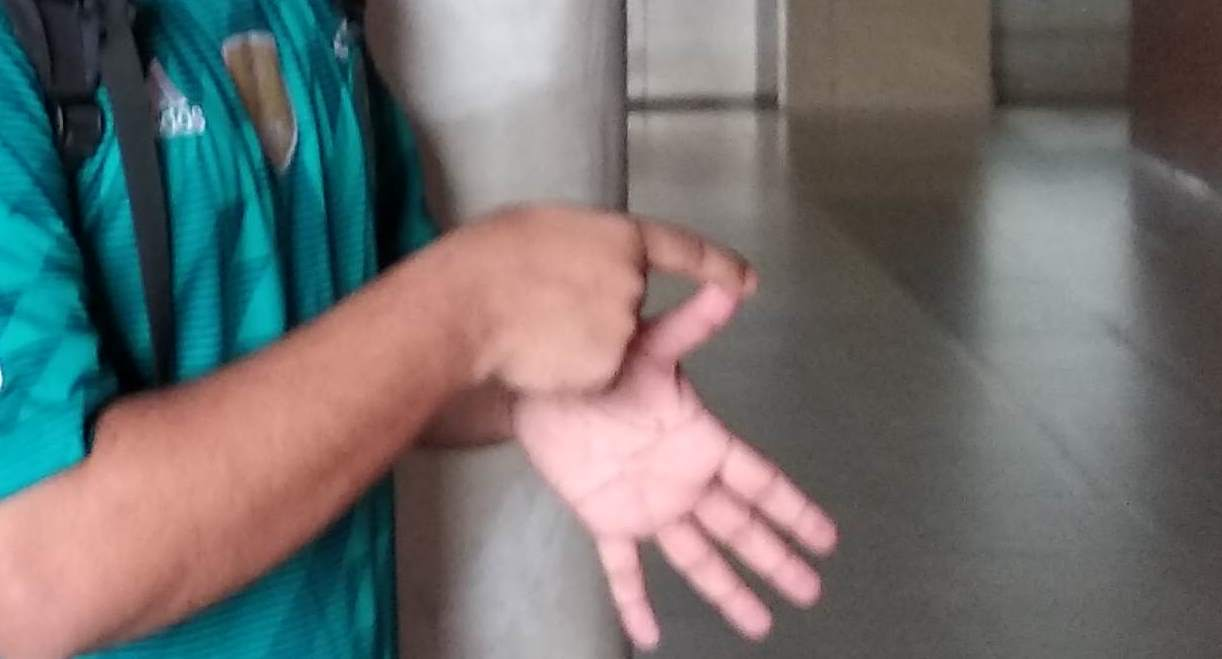a: (526, 202, 857, 659)
